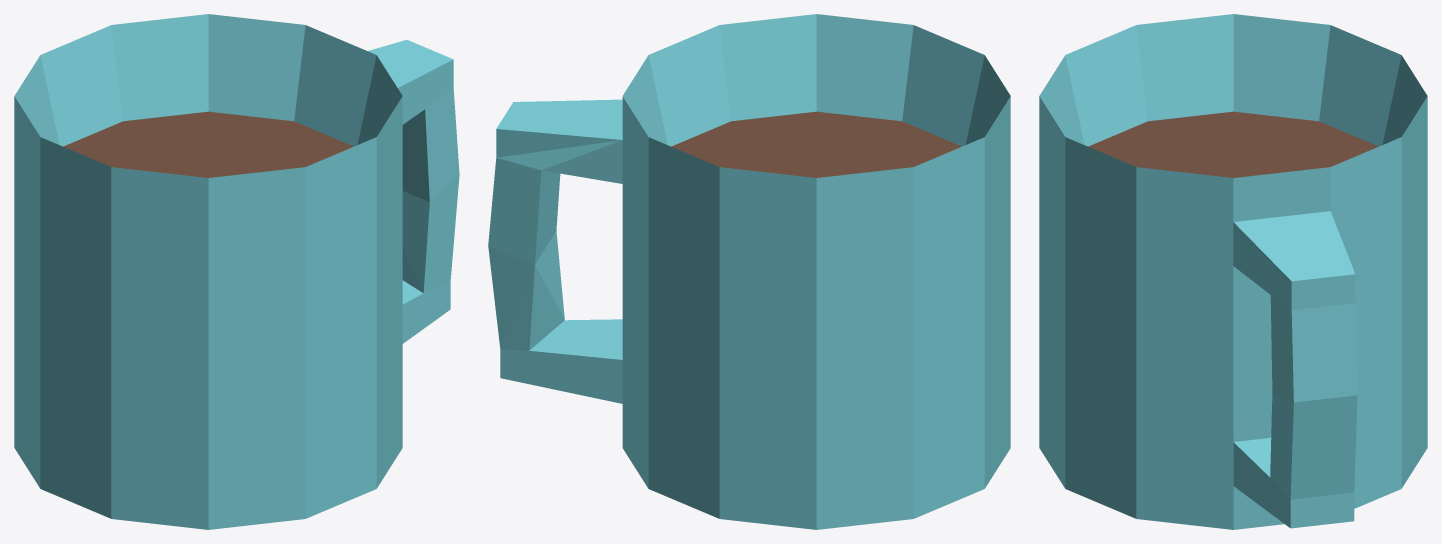
The model's file is cup.glb.
3 renders of one model, left to right at view 1: azimuth 30°, elevation 25°; view 2: azimuth 150°, elevation 25°; view 3: azimuth 270°, elevation 25°, orthographic.
Visible parts, largest first — view 1: group377419114; view 2: group377419114; view 3: group377419114.
Part boxes in pixels (x1=…): group377419114: x1=14, y1=14, x2=459, y2=529; group377419114: x1=488, y1=14, x2=1010, y2=529; group377419114: x1=1039, y1=14, x2=1427, y2=529.
Bounding box in the file's own units: 0.3207 × 0.24 × 0.24.
